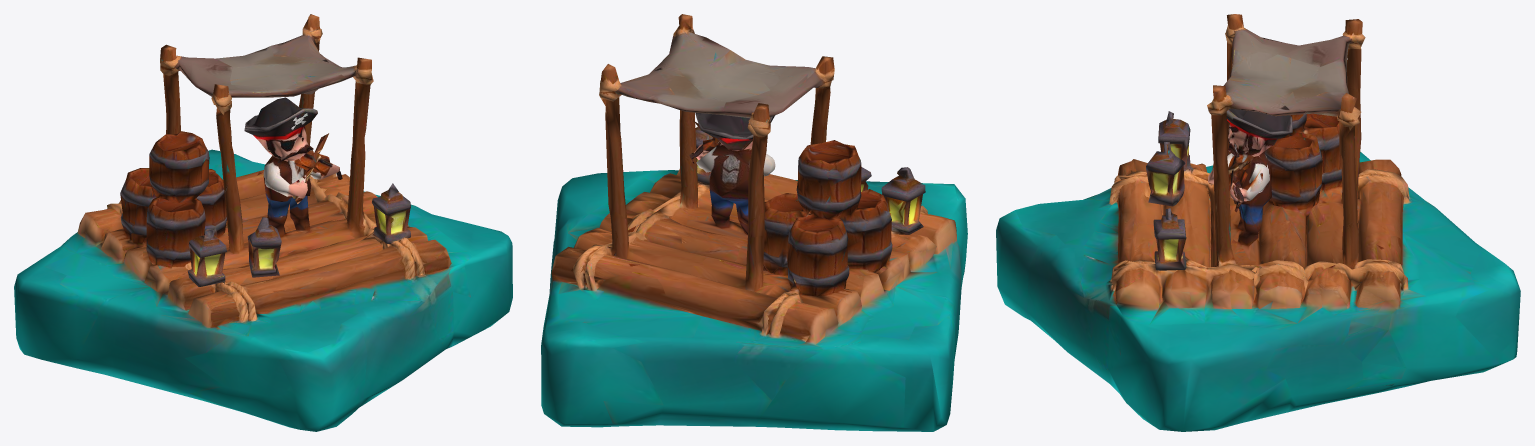
File: m_tavern_animated.glb
3 views of the same model, side by side, from view 1: azimuth 30°, elevation 25°; view 2: azimuth 150°, elevation 25°; view 3: azimuth 270°, elevation 25° (orthographic). The views are drawn at different scales.
Parts seen in each view (by area): view 1: m_tavern_Living_Scenery; view 2: m_tavern_Living_Scenery; view 3: m_tavern_Living_Scenery.
Part boxes in pixels (left/top/right/bottom): m_tavern_Living_Scenery: left=14, top=14, right=512, bottom=431; m_tavern_Living_Scenery: left=541, top=14, right=967, bottom=431; m_tavern_Living_Scenery: left=996, top=14, right=1520, bottom=431.
Size of the model in its own units: 0.9955 by 0.6003 by 0.9997.
Materials: 1 (1 with a texture image).
